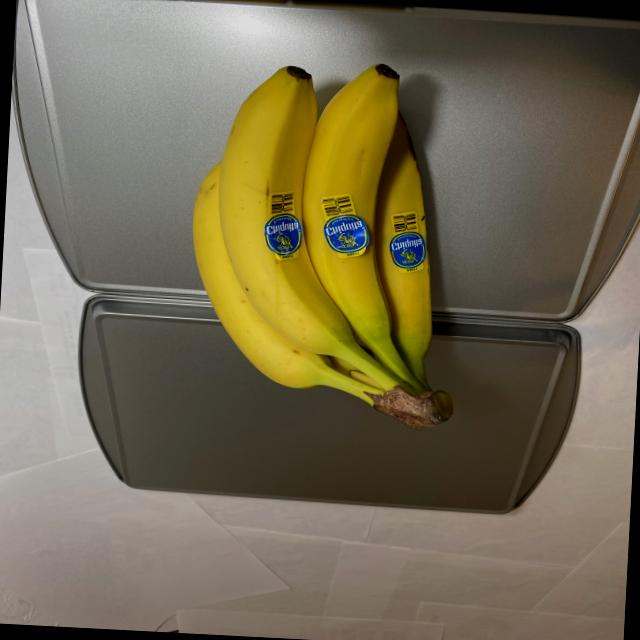banana: (172, 43, 476, 434)
